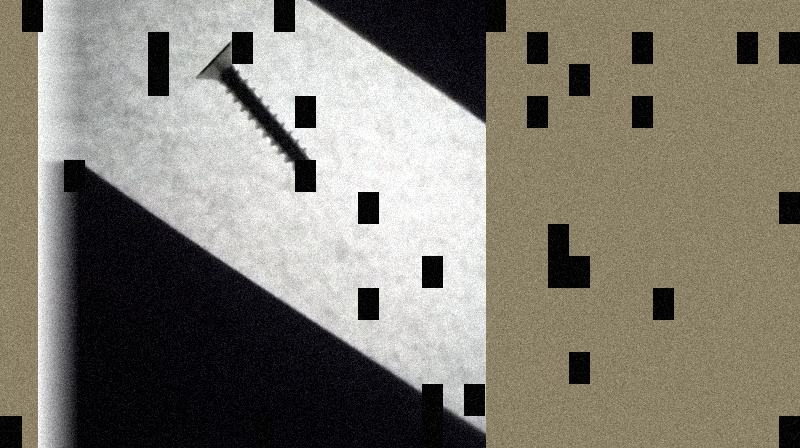S001: (192, 34, 320, 183)
